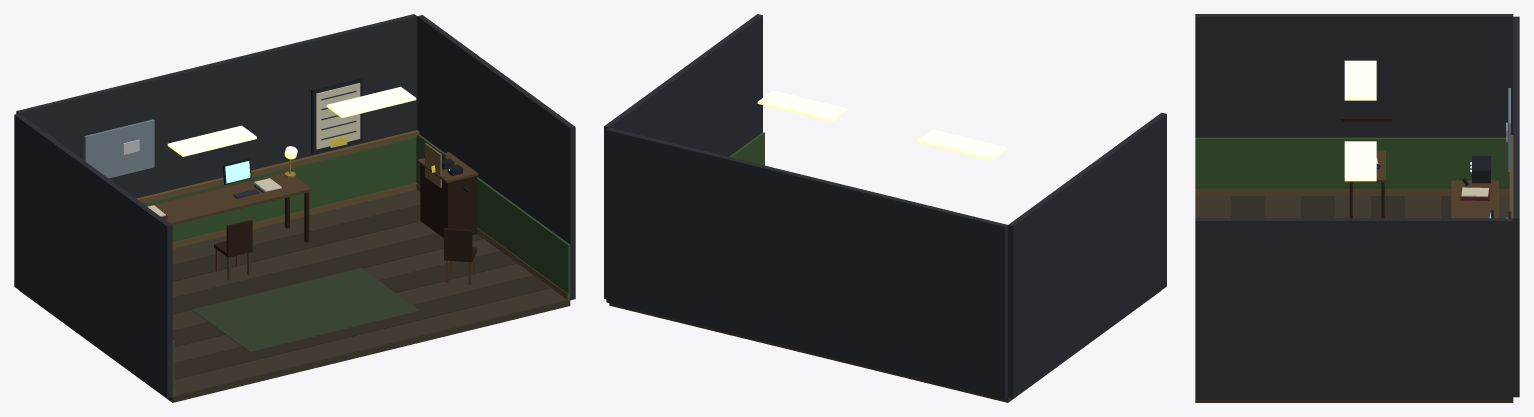
File: comms.glb
3 renders of one model, left to right at view 1: azimuth 30°, elevation 25°; view 2: azimuth 150°, elevation 25°; view 3: azimuth 270°, elevation 25°, orthographic. The views are drawn at different scales.
Visible parts, largest first — view 1: WallBack, WallLeft, WallRight, CommsRug, BandBack, Plank0, BandRight, Plank1, Plank5, Plank6, Plank7, Plank8 (+18 smaller); view 2: WallBack, WallLeft, WallRight, Floor, CeilStrip1, CeilStrip0, BandRight; view 3: WallRight, WallLeft, BandLeft, WallBack, SkirtLeft, RadioDeskTop, CeilStrip0, CeilStrip1, Floor, Plank0, Plank1, Plank2 (+7 smaller).
Boxes of the visible parts, x1,y1,x2,y2 form: WallBack: [16, 14, 417, 198]; WallLeft: [14, 113, 172, 398]; WallRight: [417, 15, 575, 300]; CommsRug: [192, 268, 419, 352]; BandBack: [144, 137, 416, 242]; Plank0: [174, 288, 567, 396]; BandRight: [416, 134, 570, 300]; Plank1: [174, 275, 550, 379]; Plank5: [172, 233, 483, 314]; Plank6: [172, 221, 436, 297]; Plank7: [172, 205, 420, 281]; Plank8: [172, 189, 420, 265]; WallBack: [606, 127, 1007, 399]; WallLeft: [1008, 112, 1166, 398]; WallRight: [604, 14, 762, 299]; Floor: [609, 290, 1161, 402]; CeilStrip1: [757, 90, 847, 121]; CeilStrip0: [917, 129, 1006, 160]; BandRight: [729, 132, 764, 165]; WallRight: [1195, 218, 1513, 399]; WallLeft: [1195, 14, 1513, 137]; BandLeft: [1195, 137, 1509, 189]; WallBack: [1513, 16, 1519, 397]; SkirtLeft: [1195, 189, 1509, 196]; RadioDeskTop: [1451, 180, 1498, 218]; CeilStrip0: [1344, 60, 1376, 100]; CeilStrip1: [1344, 141, 1376, 181]; Floor: [1195, 197, 1513, 402]; Plank0: [1196, 196, 1229, 218]; Plank1: [1231, 196, 1264, 218]; Plank2: [1266, 196, 1299, 218].
Bounding box in the file's own units: 7.7 × 3.2 × 5.1.
